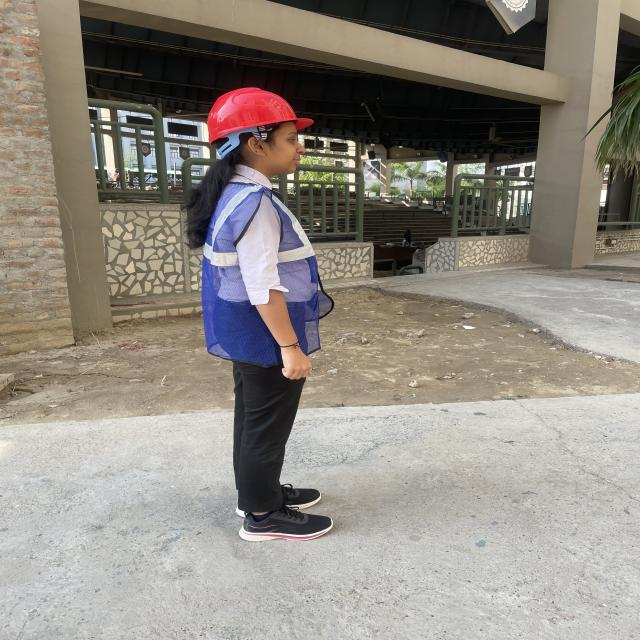safe: (187, 88, 330, 541)
